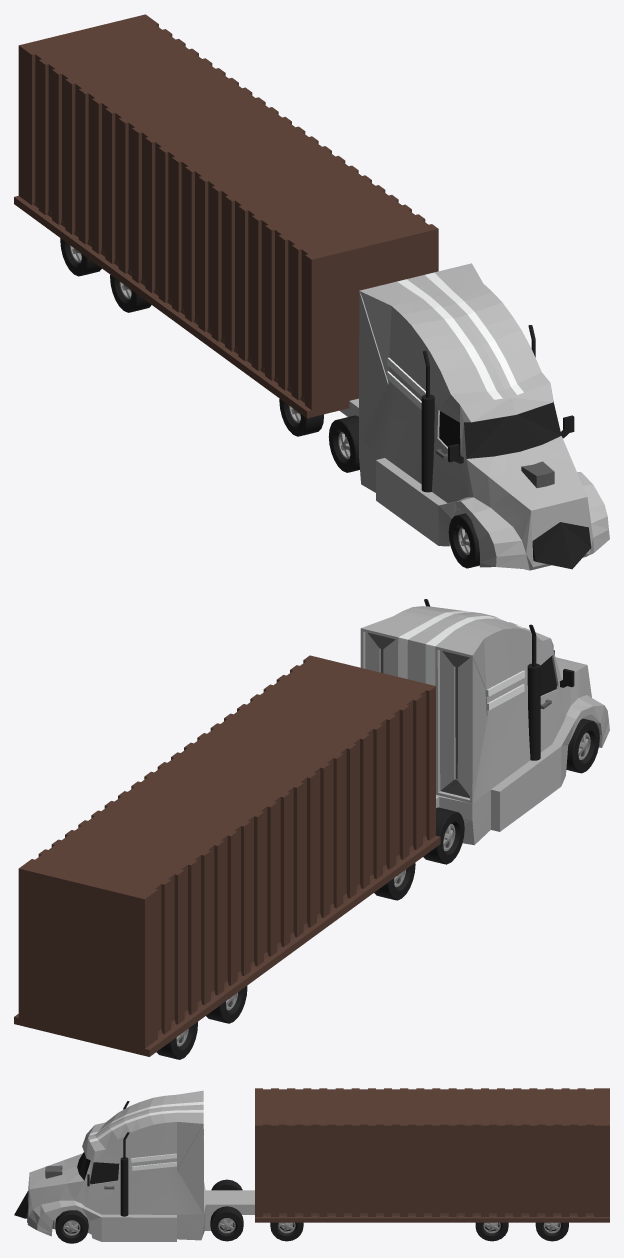
Rendered from TruckWIthContainer.fbx.
3 renders of one model, top to bottom at view 1: azimuth 30°, elevation 25°; view 2: azimuth 150°, elevation 25°; view 3: azimuth 270°, elevation 25°, orthographic. The views are drawn at different scales.
Parts seen in each view (by area): view 1: Container, Truck, 2R, 1R, 3R, 5L.001, 4L.001; view 2: Container, Truck, 2R, 1R, 4L.001, 5L.001, 3R; view 3: ContainerDoor, Truck, Container, 2L, 1L, 5L, 3L, 4L, 2R.
Boxes of the visible parts, x1,y1,x2,y2 form: Container: (14,14,438,418); Truck: (340,263,609,570); 2R: (328,415,359,472); 1R: (448,513,479,568); 3R: (279,399,323,436); 5L.001: (60,238,101,276); 4L.001: (110,275,151,312); Container: (18,655,440,1056); Truck: (360,599,609,845); 2R: (423,807,464,864); 1R: (566,718,599,773); 4L.001: (206,986,247,1023); 5L.001: (156,1022,197,1059); 3R: (374,863,415,900); ContainerDoor: (255,1124,609,1222); Truck: (14,1090,254,1241); Container: (255,1088,609,1216); 2L: (210,1206,243,1241); 1L: (55,1210,88,1243); 5L: (535,1222,568,1241); 3L: (270,1222,303,1241); 4L: (475,1222,508,1241); 2R: (211,1179,242,1190).
Size of the model in its own units: 284 by 391 by 1774.
Materials: 1 (1 with a texture image).
